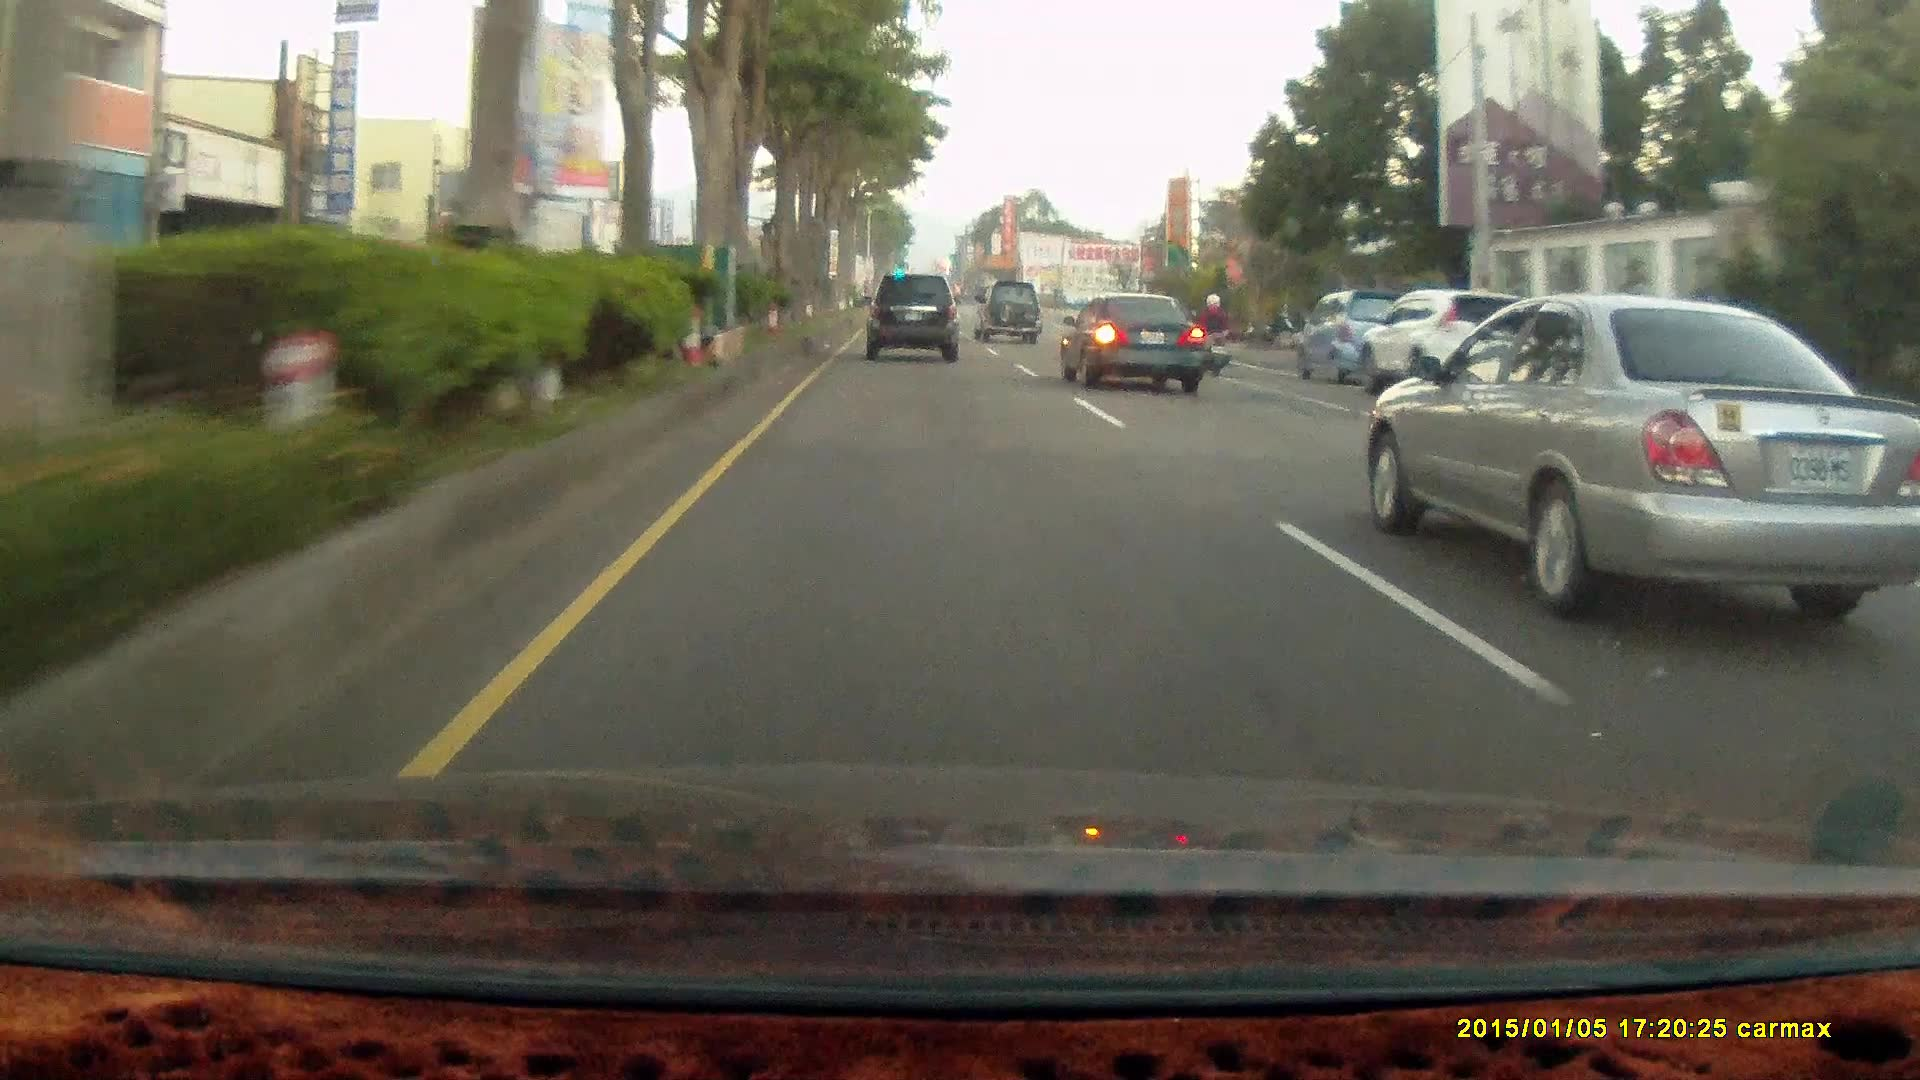rider: (1194, 295, 1234, 380), (1193, 290, 1233, 375)
vehicle: (1366, 299, 1919, 614), (1358, 287, 1541, 395), (1057, 292, 1204, 392), (1061, 293, 1209, 388), (1296, 288, 1429, 384), (862, 272, 966, 367), (862, 274, 959, 361), (974, 283, 1046, 349), (973, 283, 1042, 347)
